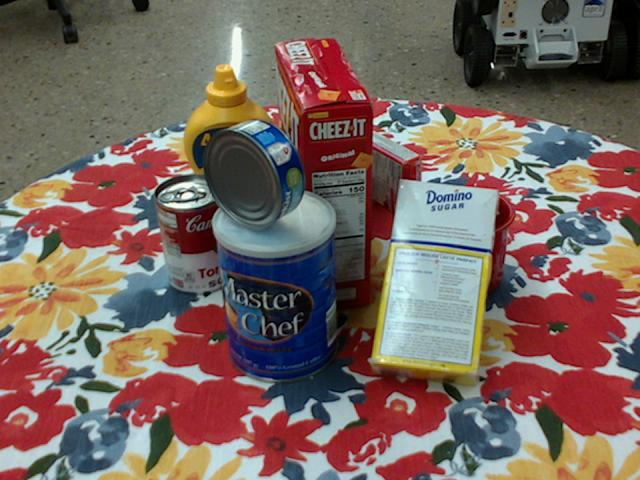cracker_box: (274, 39, 373, 312)
gelatin_box: (355, 129, 421, 218)
large_marker: (298, 77, 322, 127)
master_chef_can: (213, 189, 338, 386)
mug: (398, 186, 513, 298)
mustard_bottle: (183, 65, 280, 241)
potted_meat_can: (264, 121, 356, 211)
sugar_box: (369, 182, 496, 389)
tomato_soup_can: (153, 174, 231, 294)
tuna_fish_can: (202, 120, 305, 230)
